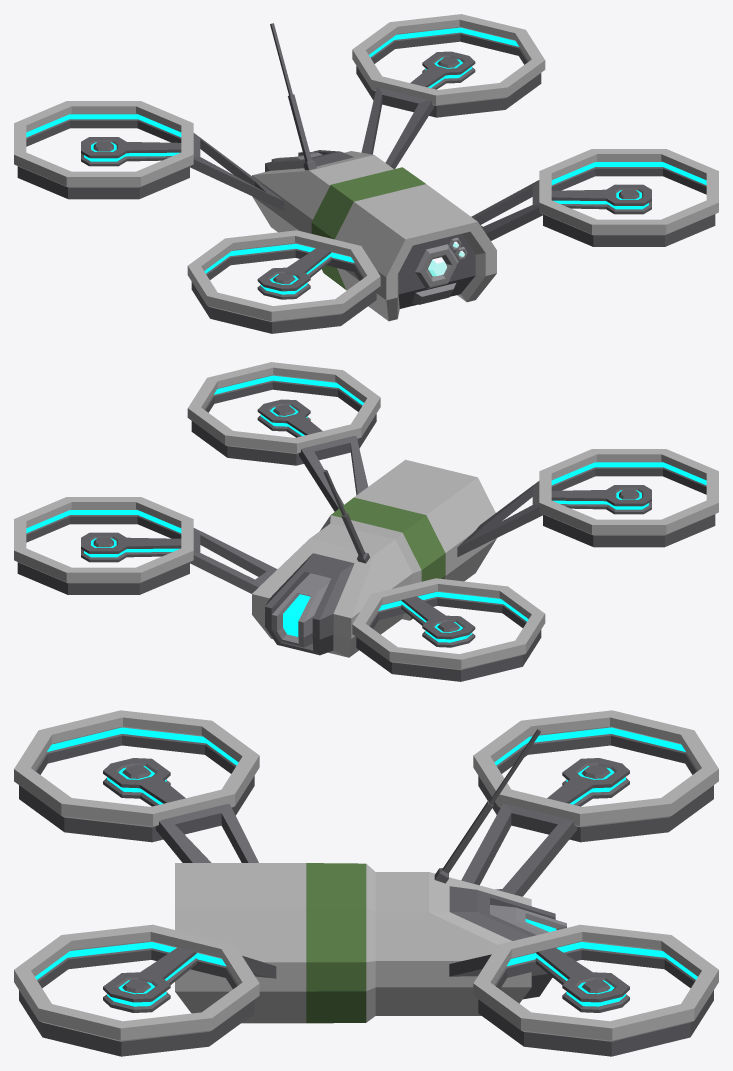
The model's file is Drone_Green.glb.
3 renders of one model, top to bottom at view 1: azimuth 30°, elevation 25°; view 2: azimuth 150°, elevation 25°; view 3: azimuth 270°, elevation 25°, orthographic. The views are drawn at different scales.
Parts seen in each view (by area): view 1: default; view 2: default; view 3: default.
Boxes of the visible parts, x1=… form: default: x1=14, y1=14, x2=718, y2=333; default: x1=14, y1=362, x2=718, y2=681; default: x1=14, y1=710, x2=718, y2=1056.
Bounding box in the file's own units: 1.25 × 0.4568 × 1.17.
1 material, 1 textured.
